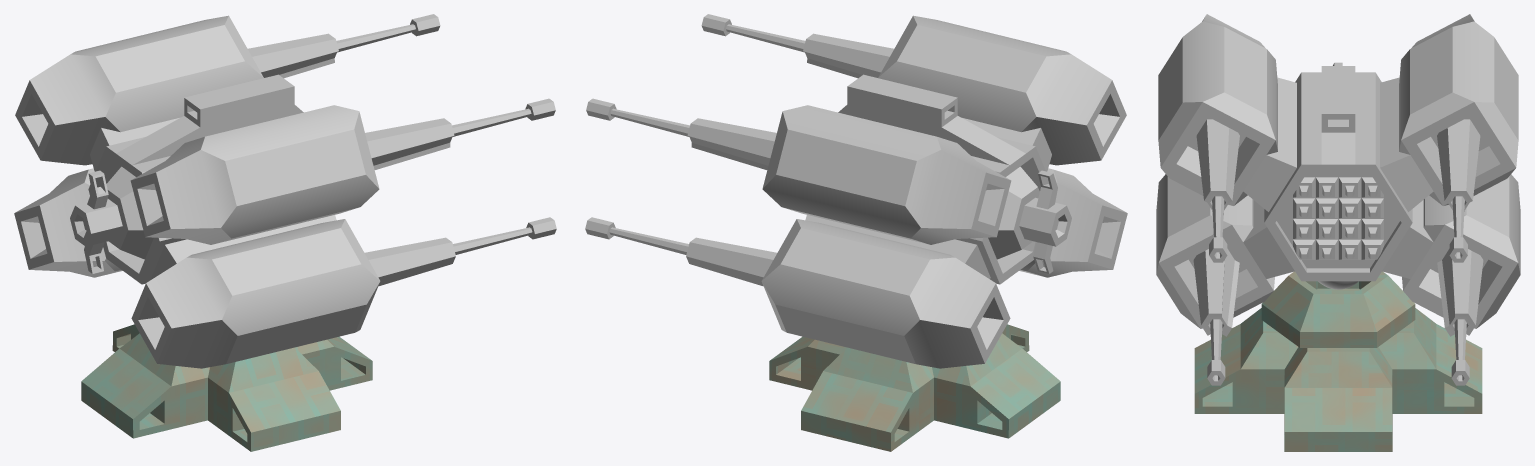
The model's file is Torret_4020508.fbx.
3 renders of one model, left to right at view 1: azimuth 30°, elevation 25°; view 2: azimuth 150°, elevation 25°; view 3: azimuth 270°, elevation 25°, orthographic. The views are drawn at different scales.
Parts seen in each view (by area): view 1: Plane.001, Plane; view 2: Plane.001, Plane; view 3: Plane.001, Plane.
Boxes of the visible parts, x1,y1,x2,y2 form: Plane.001: [14, 14, 556, 368]; Plane: [81, 324, 372, 451]; Plane.001: [585, 14, 1127, 368]; Plane: [769, 324, 1060, 451]; Plane.001: [1156, 14, 1520, 385]; Plane: [1194, 271, 1482, 451].
Size of the model in its own units: 332 by 240 by 243.
